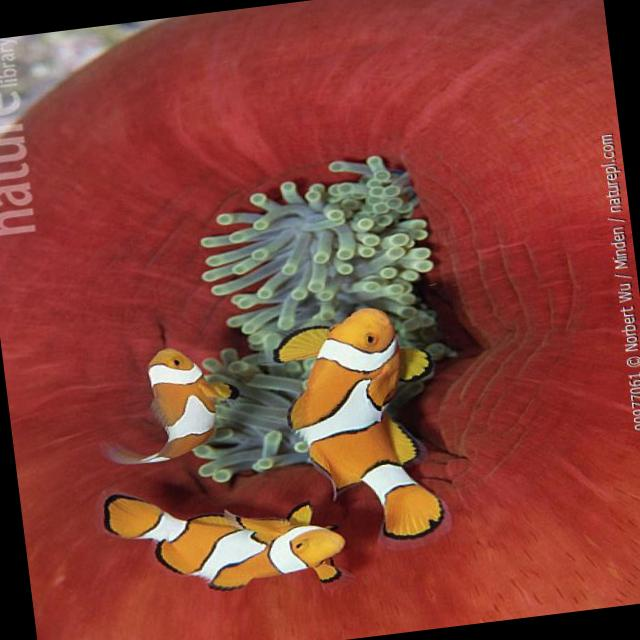ClownFish: (269, 297, 460, 553), (98, 465, 349, 606), (86, 338, 245, 470)
